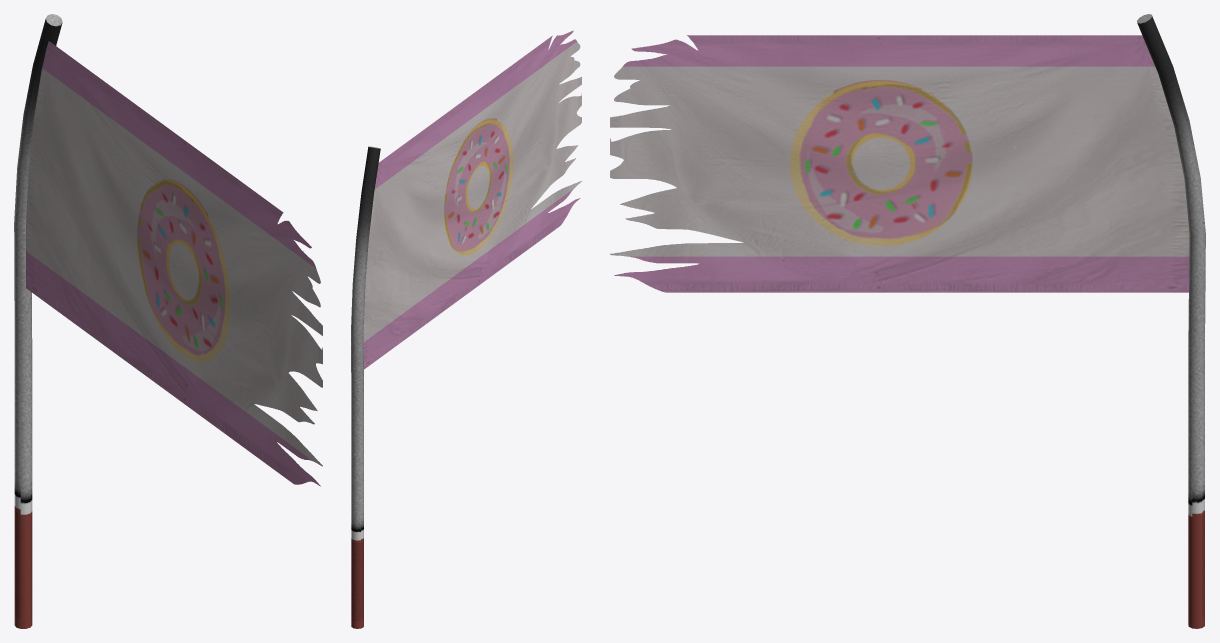
File: flag_finished.FBX
The picture shows the model from 3 angles, left to right: view 1: azimuth 30°, elevation 25°; view 2: azimuth 150°, elevation 25°; view 3: azimuth 270°, elevation 25°; orthographic projection. The views are drawn at different scales.
Visible parts, largest first — view 1: Plane001, pole; view 2: Plane001, pole; view 3: Plane001, pole.
Part boxes in pixels (bbox=[...]): Plane001: bbox=[26, 41, 322, 486]; pole: bbox=[14, 14, 62, 628]; Plane001: bbox=[363, 30, 581, 369]; pole: bbox=[351, 146, 380, 628]; Plane001: bbox=[610, 35, 1189, 292]; pole: bbox=[1137, 14, 1205, 628].
Size of the model in its own units: 6.39 by 199 by 176.
